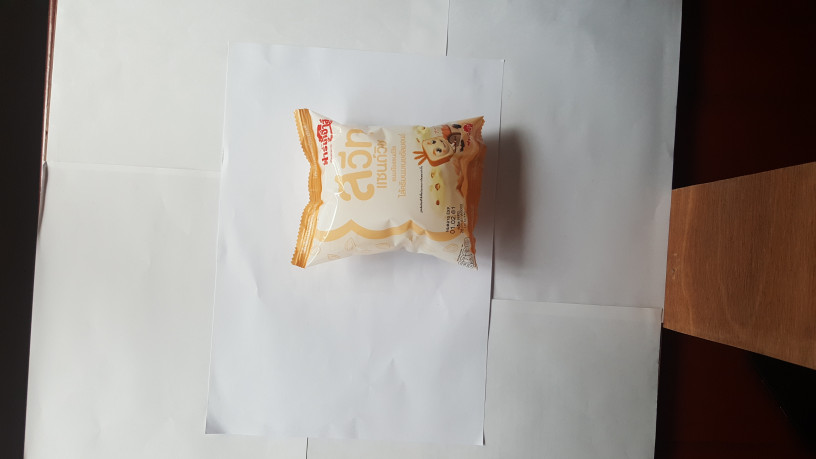farmhouse-sweetsandwich-almond: (281, 104, 495, 284)
